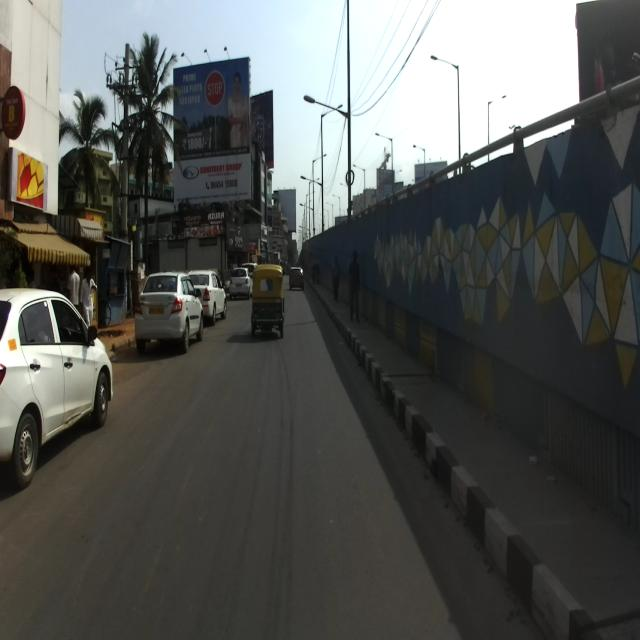auto ahead at: (252, 268, 286, 338)
car ahead at: (1, 285, 120, 480), (134, 271, 208, 355)
